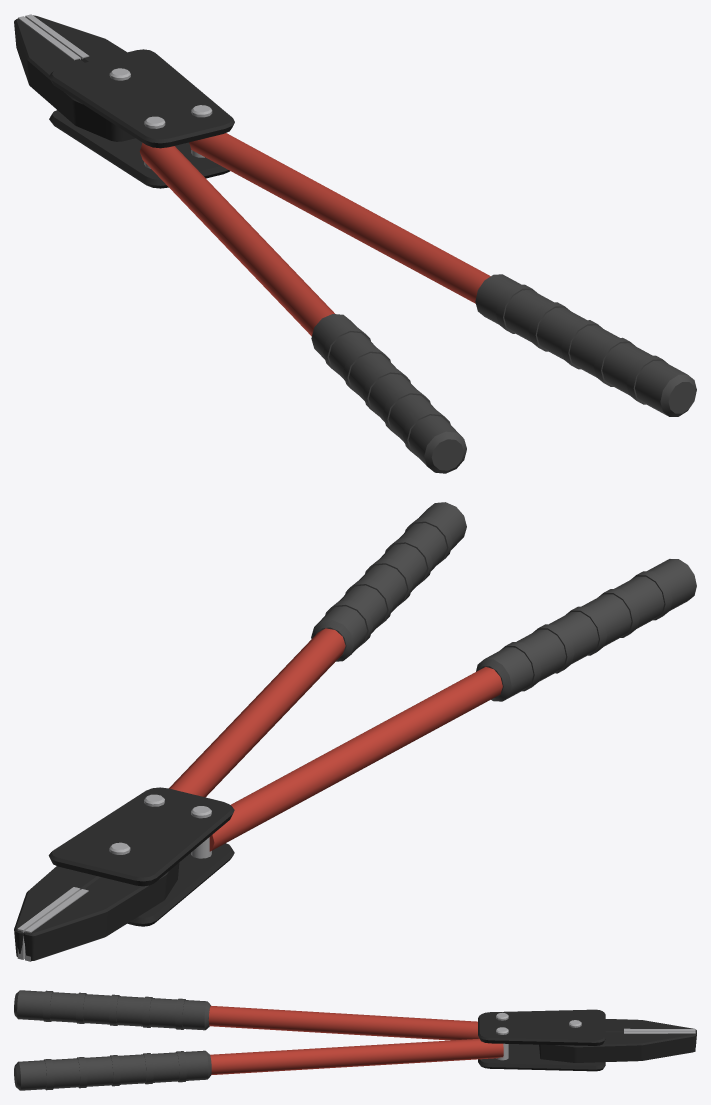
File: bolt_cutters.glb
3 renders of one model, top to bottom at view 1: azimuth 30°, elevation 25°; view 2: azimuth 150°, elevation 25°; view 3: azimuth 270°, elevation 25°, orthographic. The views are drawn at different scales.
Visible parts, largest first — view 1: handle_right, handle_left, head, jaw_left, jaw_right; view 2: handle_left, handle_right, head, jaw_left, jaw_right; view 3: handle_right, handle_left, head, jaw_right, jaw_left.
Boxes of the visible parts, x1,y1,x2,y2 form: handle_right: (189, 133, 696, 416); handle_left: (139, 142, 466, 473); head: (49, 49, 234, 188); jaw_left: (14, 16, 135, 141); jaw_right: (25, 14, 126, 62); handle_left: (209, 559, 696, 851); handle_right: (169, 502, 466, 797); head: (48, 787, 234, 926); jaw_left: (24, 863, 179, 961); jaw_right: (14, 866, 100, 959); handle_right: (14, 1038, 503, 1090); handle_left: (14, 990, 479, 1040); head: (478, 1009, 605, 1071); jaw_right: (539, 1031, 696, 1062); jaw_left: (605, 1019, 696, 1033).
Bounding box in the file's own units: 0.1629 × 0.033 × 0.5612.
